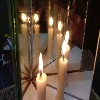fire: (38, 51, 44, 75)
